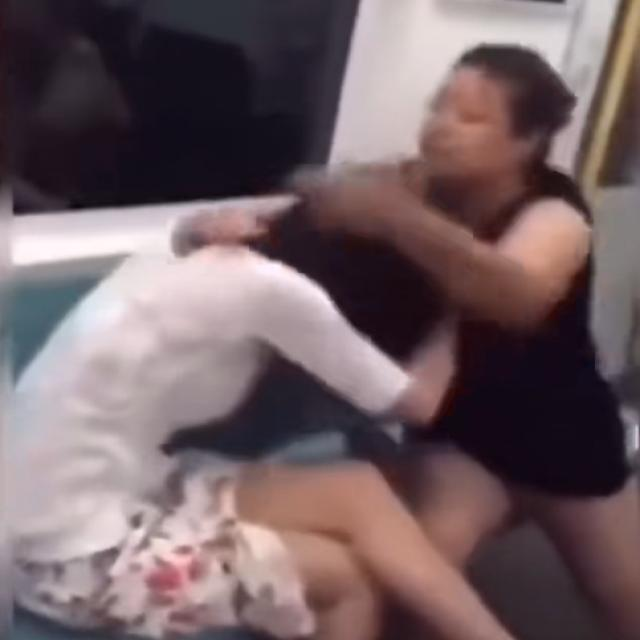fight: (196, 39, 599, 432)
